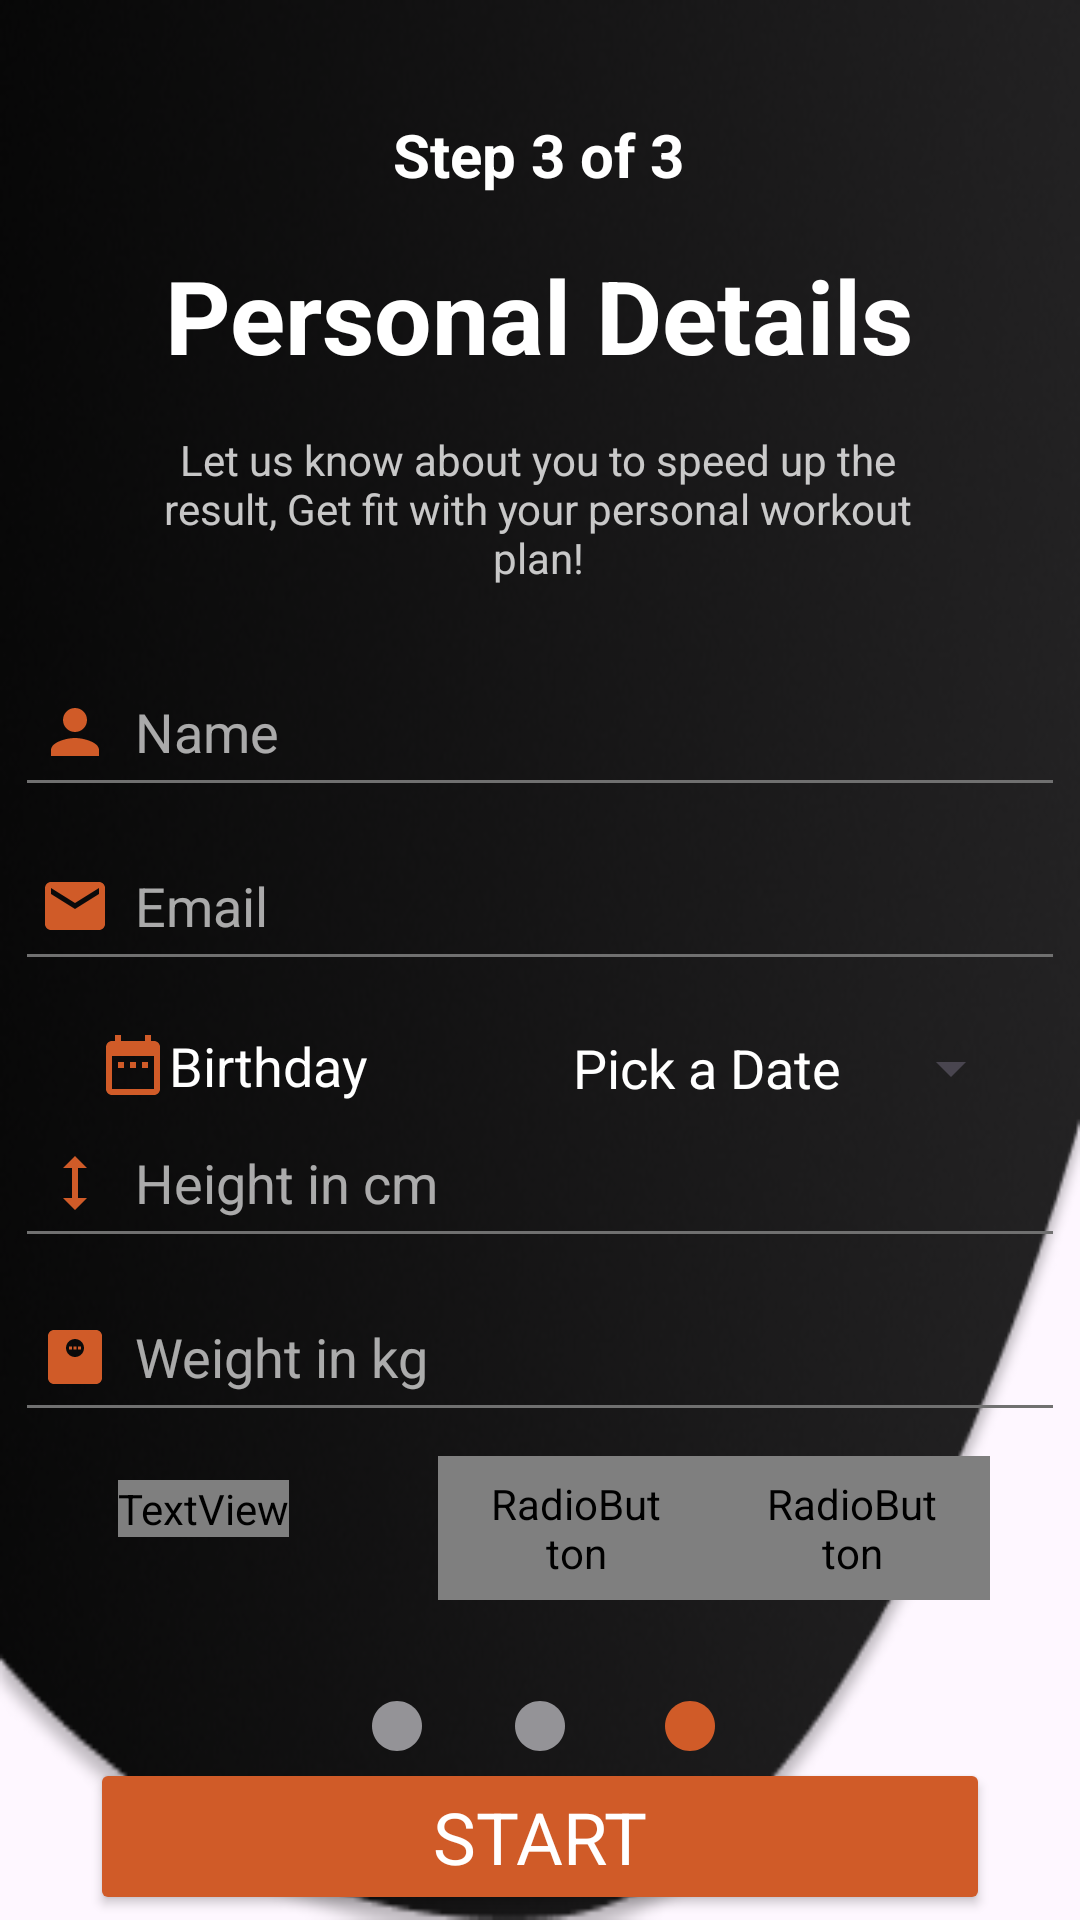

Named icons in this screenshot (1080 x 1920) and their bounding boxes, [x1,y1,x2,y2]:
circle: [372,1701,422,1751], [515,1701,565,1751], [665,1701,715,1751]
